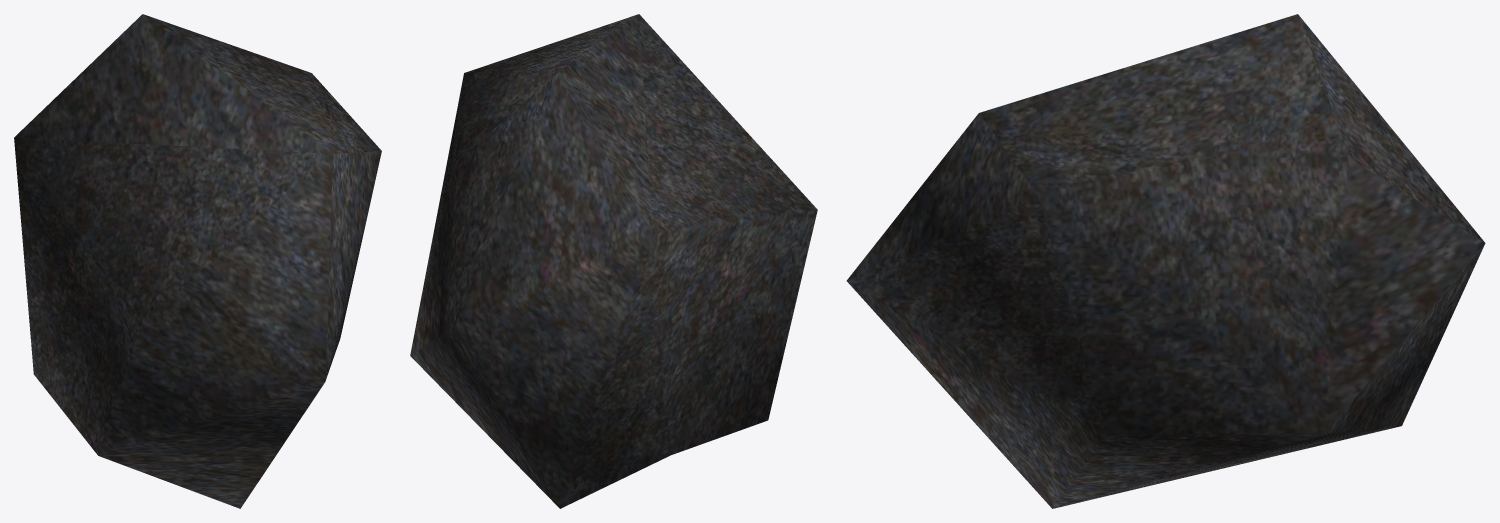
File: asteroid_metal_radial_s02_l3.fbx
3 views of the same model, side by side, from view 1: azimuth 30°, elevation 25°; view 2: azimuth 150°, elevation 25°; view 3: azimuth 270°, elevation 25° (orthographic). The views are drawn at different scales.
Parts seen in each view (by area): view 1: mesh_node; view 2: mesh_node; view 3: mesh_node.
Boxes of the visible parts, box(x1,y1,x2,y2) form: mesh_node: box(14, 14, 381, 508); mesh_node: box(410, 14, 817, 508); mesh_node: box(846, 14, 1485, 508).
Bounding box in the file's own units: 2.51 × 3.96 × 4.61.
